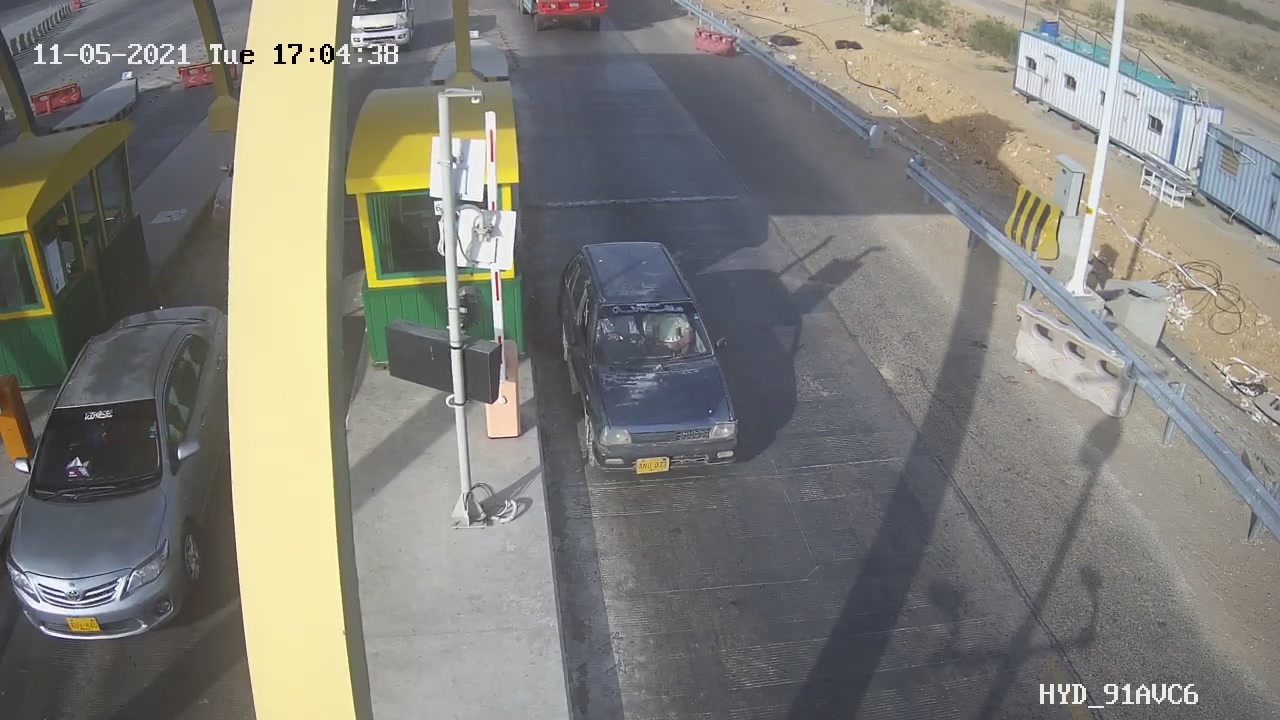F1: (539, 226, 761, 499)
